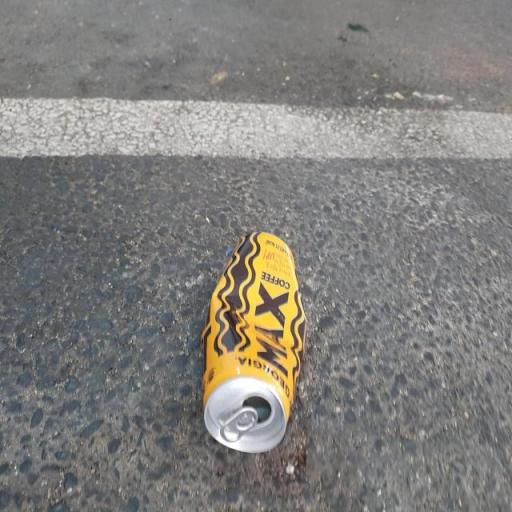metal: (193, 222, 317, 480)
